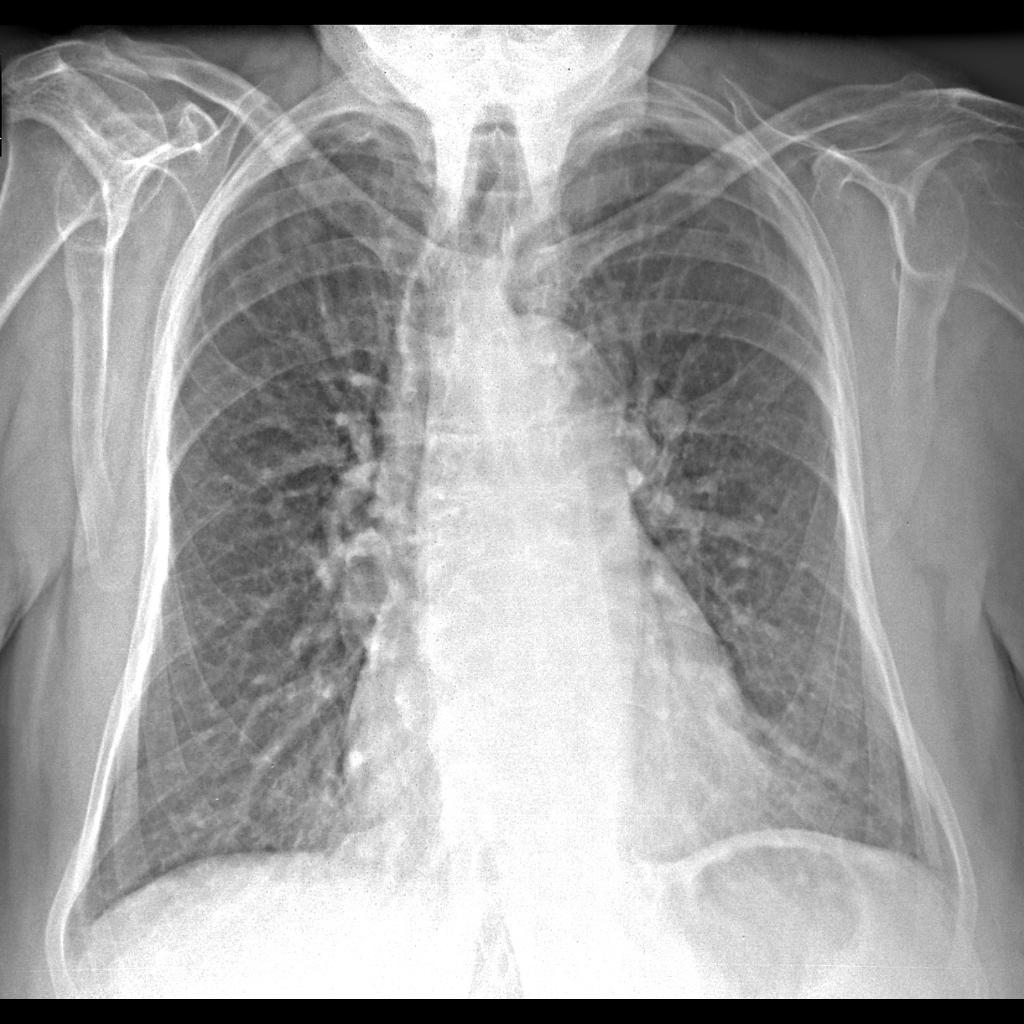Nodule: (642, 391, 693, 448)
